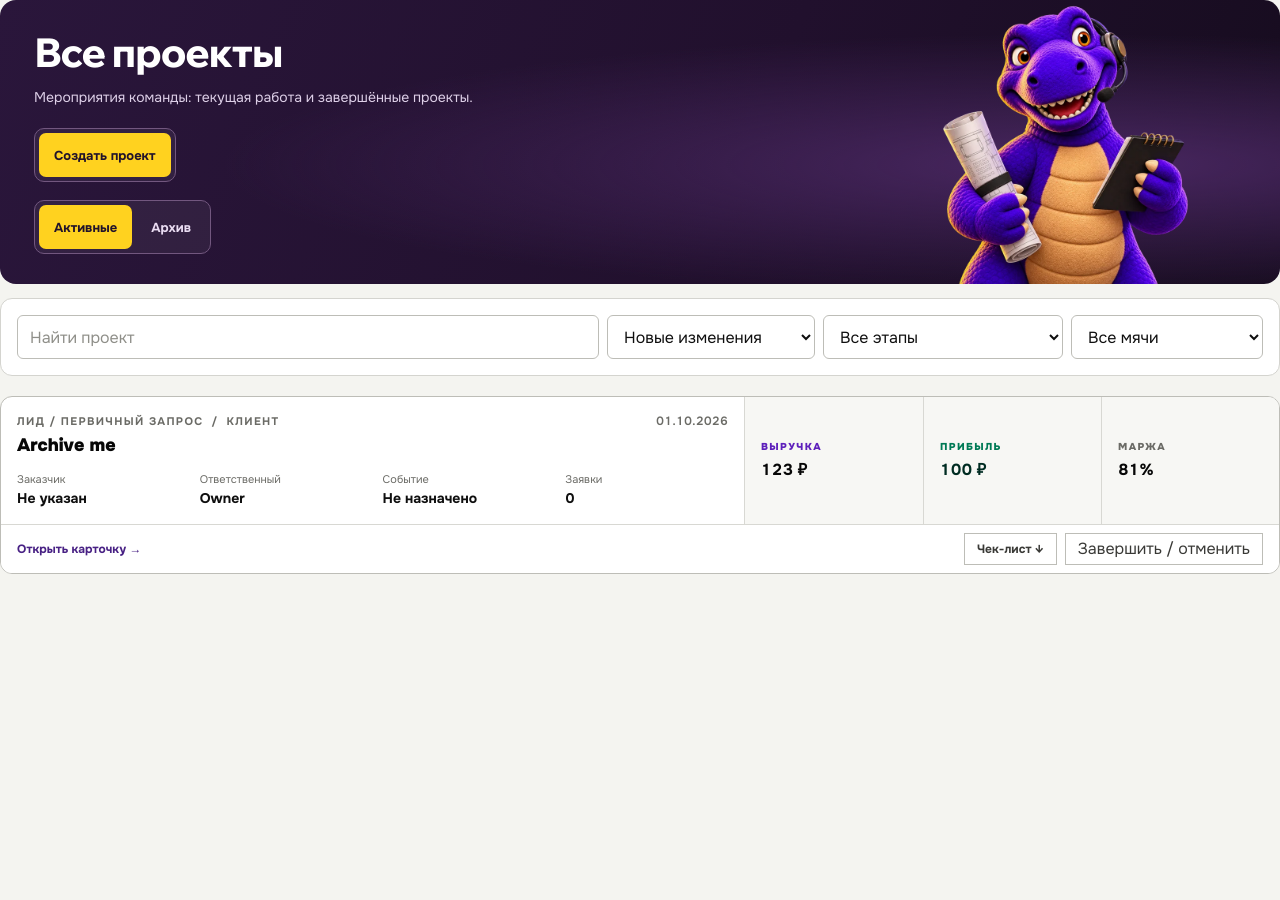
Test: projects list lifecycle › keeps the acknowledged local archive removal across unrelated renders
The image size is (1280, 900).
Click the button "Завершить / отменить" at (1164,549), box [1065,533,1263,565]
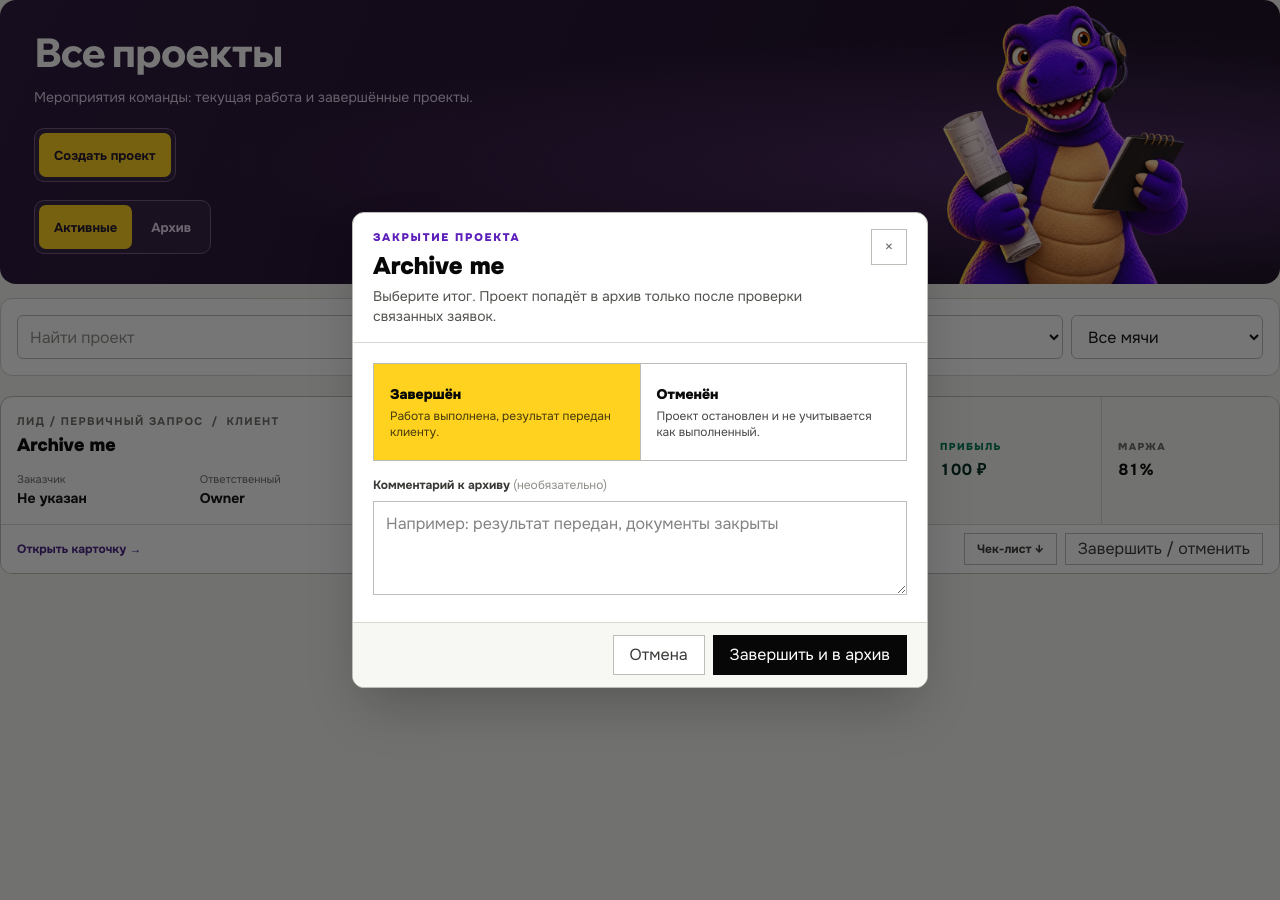
Check: the button "Завершить и в архив" is shown
Click the button "Завершить и в архив" at (810,655), box [713,635,907,675]
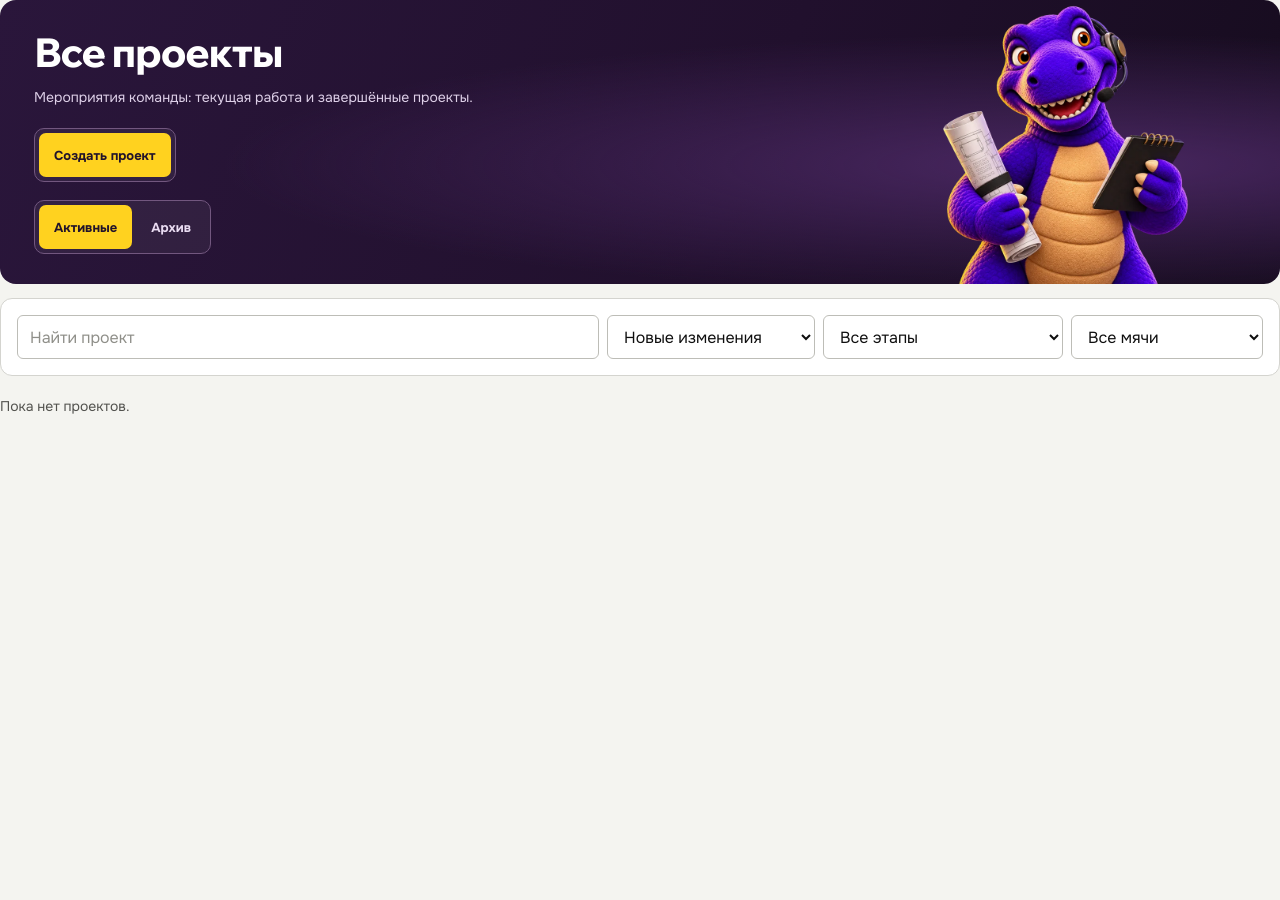
Check: the text "Archive me" is gone
Check: the text "Пока нет проектов" is shown, box [0,398,130,416]
